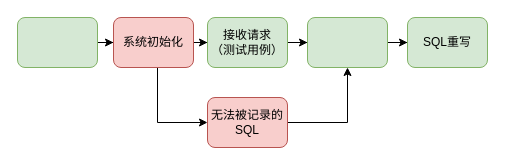
Some shapes in this 505 by 165 pixel diagram are drawn without their labels. Each missing label, with the box of its shape:
系统开始运行: (16, 16, 98, 68)
记录错误测试用例涉及到的SQL: (306, 16, 388, 68)
